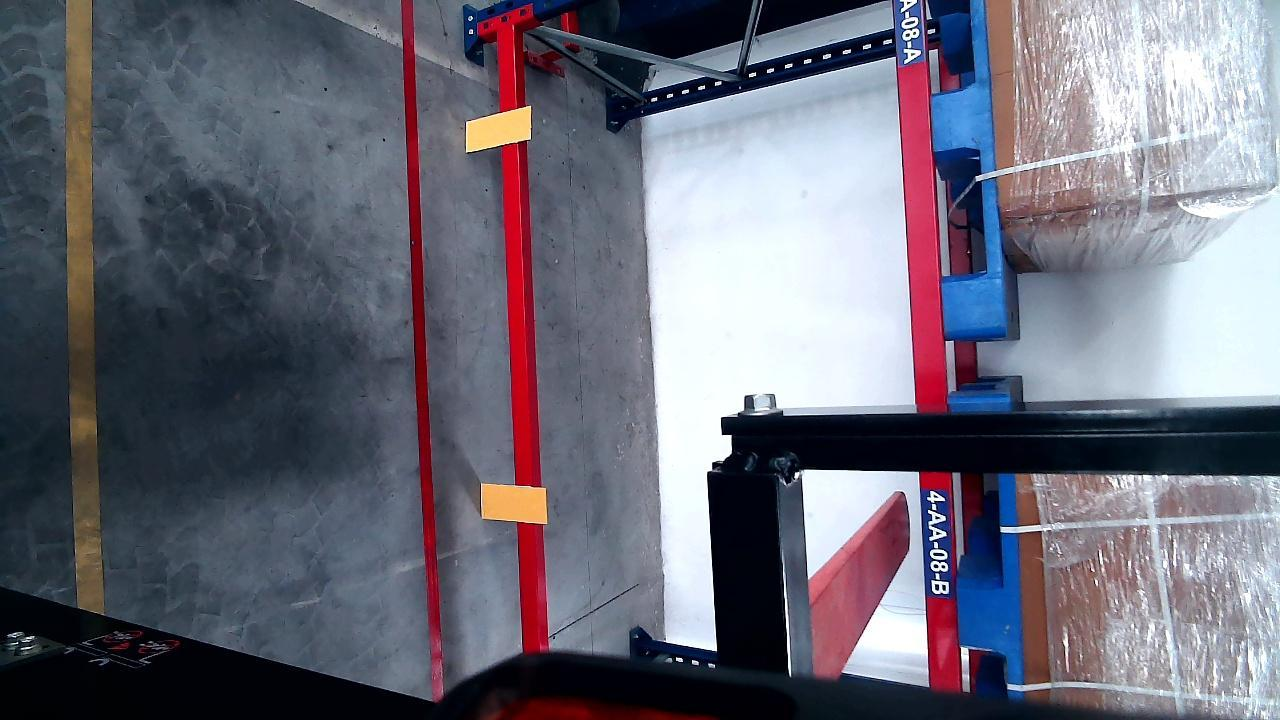red_line: (400, 0, 443, 694)
yellow_line: (64, 0, 102, 613)
